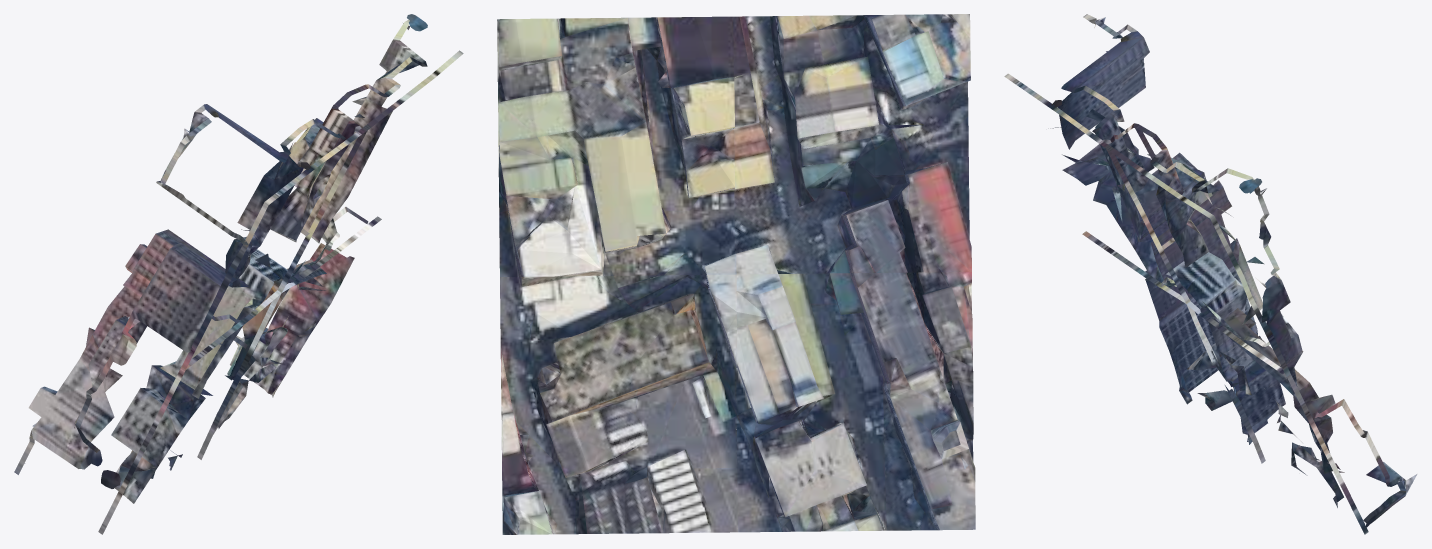
The picture shows the model from 3 angles, left to right: view 1: azimuth 30°, elevation 25°; view 2: azimuth 150°, elevation 25°; view 3: azimuth 270°, elevation 25°; orthographic projection. The views are drawn at different scales.
Size of the model in its own units: 170 by 157 by 145.
Materials: 1 (1 with a texture image).
